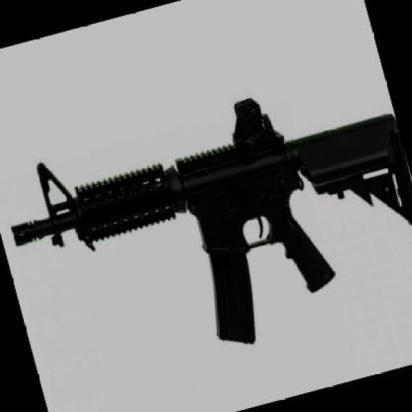Gun: (0, 73, 412, 406)
